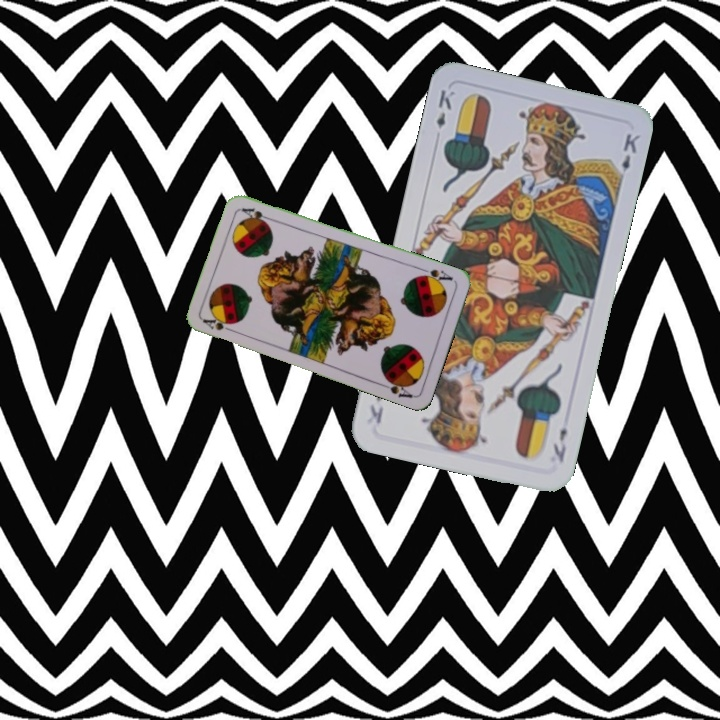EK: (432, 85, 457, 131), (549, 424, 570, 465)
SA: (199, 312, 239, 335), (416, 264, 455, 287)
